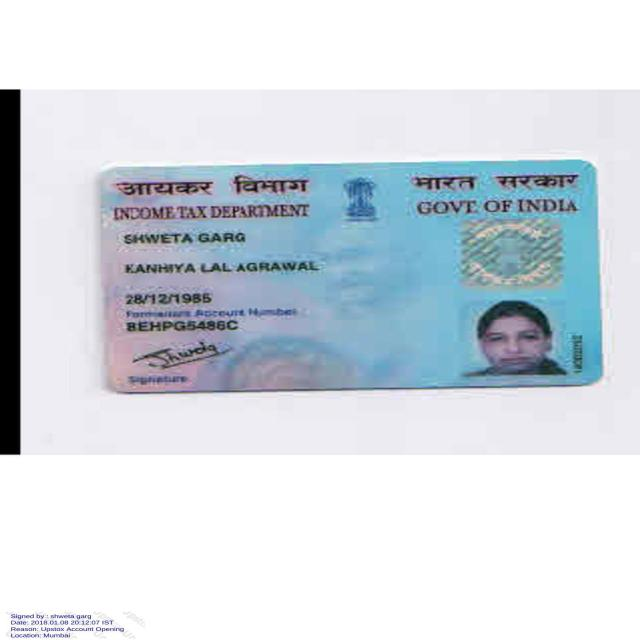pan_card: (96, 164, 603, 395)
